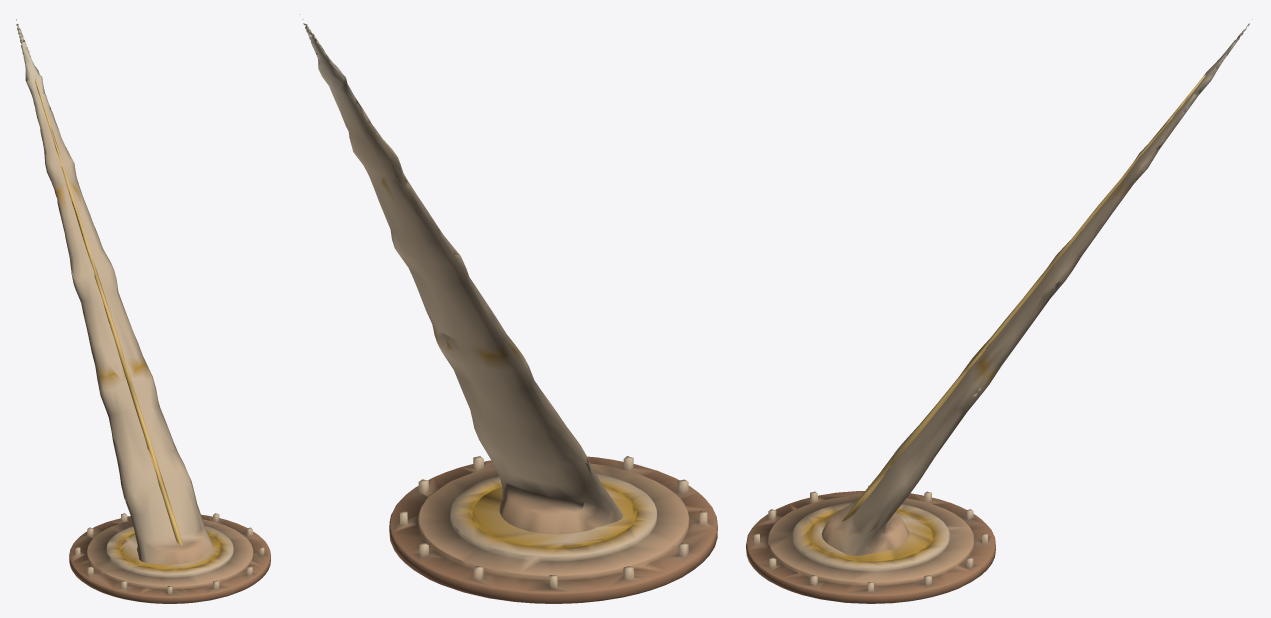
File: agulha.glb
3 renders of one model, left to right at view 1: azimuth 30°, elevation 25°; view 2: azimuth 150°, elevation 25°; view 3: azimuth 270°, elevation 25°, orthographic. The views are drawn at different scales.
Parts seen in each view (by area): view 1: Lamina, Mostrador, Costura; view 2: Mostrador, Lamina; view 3: Mostrador, Lamina, Costura.
Part boxes in pixels (bbox=[...]): Lamina: bbox=[16, 19, 212, 564]; Mostrador: bbox=[69, 513, 270, 603]; Costura: bbox=[35, 78, 182, 545]; Mostrador: bbox=[389, 456, 717, 603]; Lamina: bbox=[299, 14, 622, 534]; Mostrador: bbox=[746, 485, 995, 603]; Lamina: bbox=[821, 19, 1252, 555]; Costura: bbox=[842, 75, 1205, 521].
Size of the model in its own units: 45.97 by 113 by 94.07.
